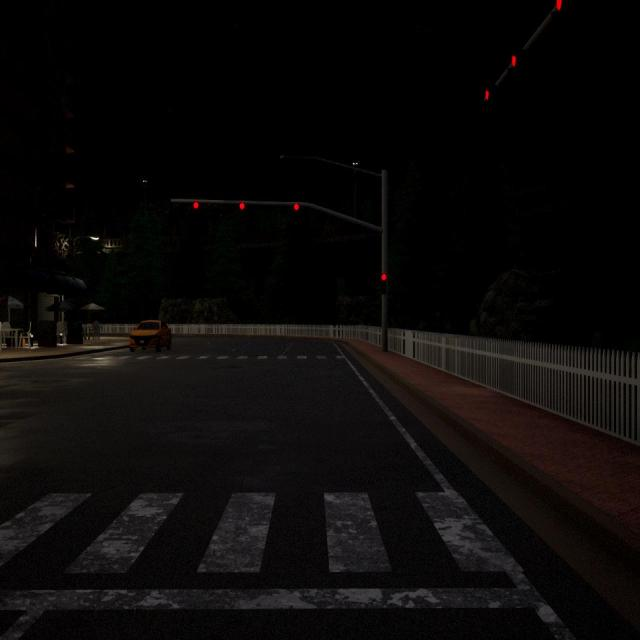Vehicle: (130, 320, 172, 354)
traffic_light: (381, 273, 387, 294), (510, 55, 518, 68), (555, 0, 563, 12), (484, 90, 491, 102), (193, 200, 199, 210), (294, 203, 300, 212), (239, 202, 245, 210)
